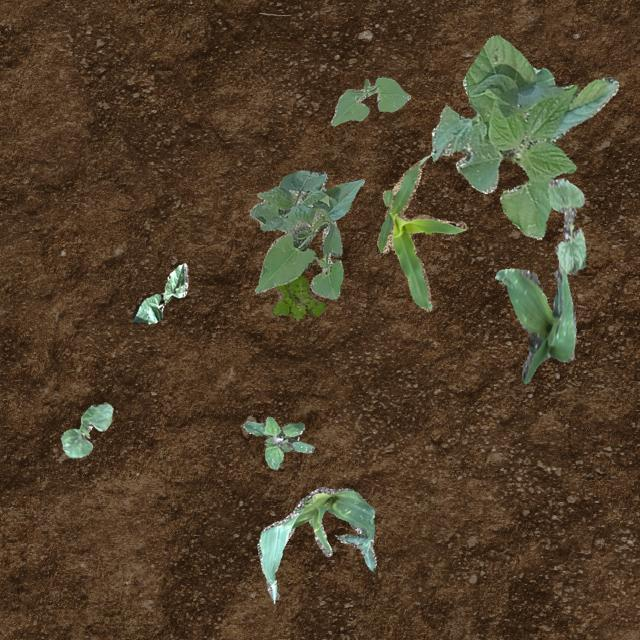crop: (430, 34, 618, 238), (248, 170, 364, 298), (376, 154, 466, 310), (256, 487, 376, 602), (494, 260, 574, 382), (330, 76, 410, 124), (546, 176, 584, 274), (132, 262, 188, 322), (60, 402, 112, 456)
weed: (242, 416, 312, 468), (270, 274, 324, 320)
